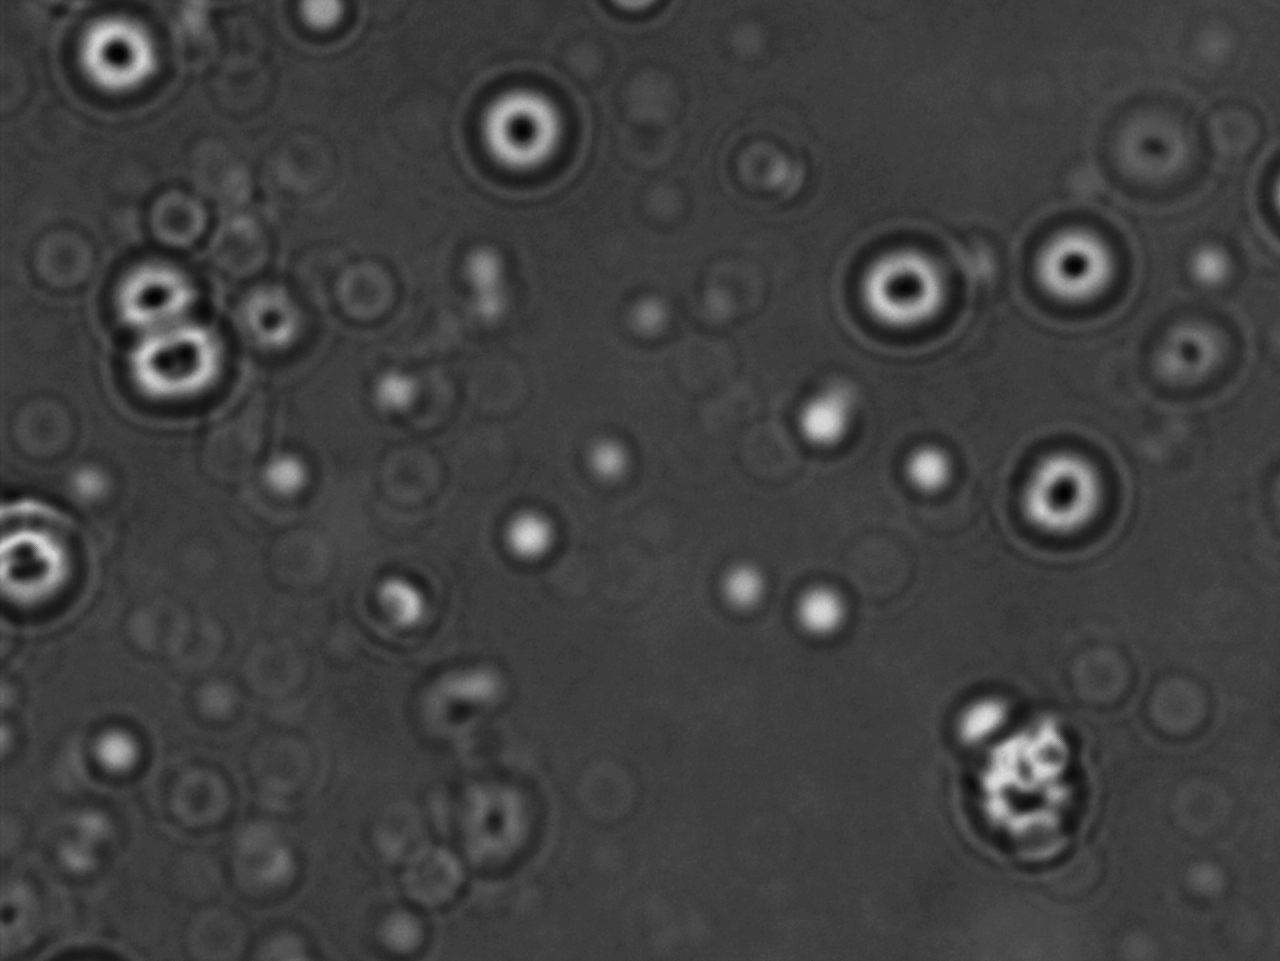depth:16: (457, 66, 591, 202), (841, 227, 970, 356), (1000, 432, 1130, 550), (1014, 199, 1128, 326), (118, 314, 235, 428), (97, 233, 207, 352), (60, 5, 173, 110)
